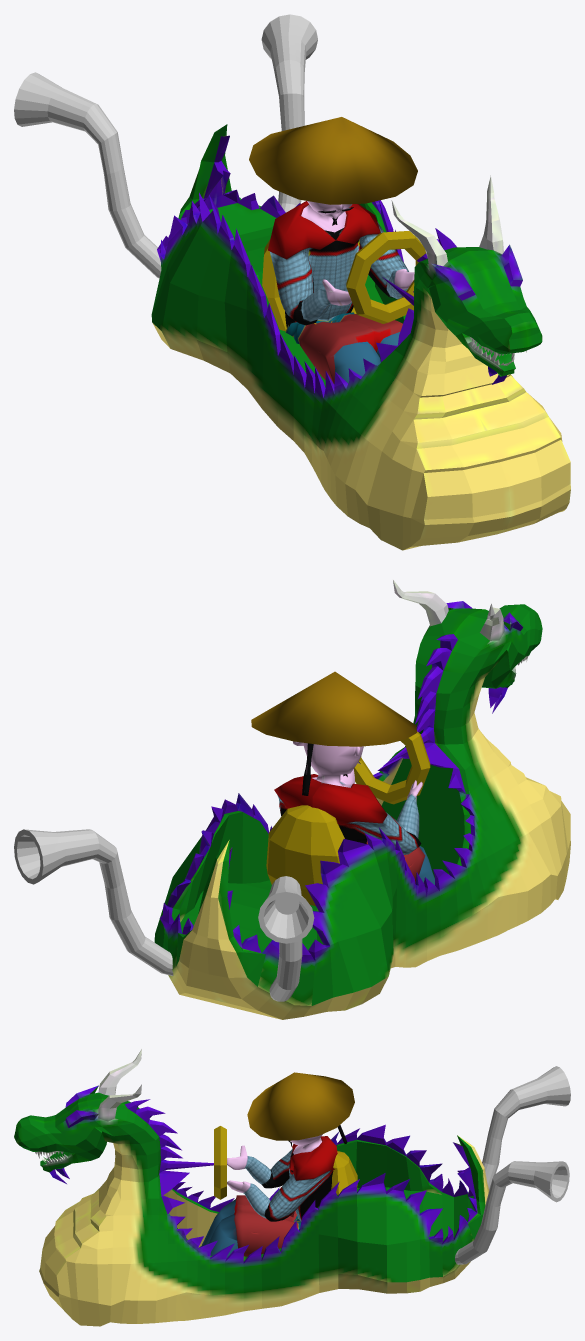
File: ChinoHabilidad_000228.obj
3 renders of one model, top to bottom at view 1: azimuth 30°, elevation 25°; view 2: azimuth 150°, elevation 25°; view 3: azimuth 270°, elevation 25°, orthographic. The views are drawn at different scales.
Visible parts, largest first — view 1: ChasisChino_ChasisChinoH, Chino_ChinoH, Tubos_TubosH, volanteChino_VolanteChinoH, AsientoChinoMalla_AsientoChinoMH; view 2: ChasisChino_ChasisChinoH, Chino_ChinoH, Tubos_TubosH, AsientoChinoMalla_AsientoChinoMH, volanteChino_VolanteChinoH; view 3: ChasisChino_ChasisChinoH, Chino_ChinoH, Tubos_TubosH, volanteChino_VolanteChinoH, AsientoChinoMalla_AsientoChinoMH.
Boxes of the visible parts, x1,y1,x2,y2 form: ChasisChino_ChasisChinoH: (151, 124, 570, 550); Chino_ChinoH: (249, 117, 417, 383); Tubos_TubosH: (14, 14, 317, 278); volanteChino_VolanteChinoH: (346, 231, 425, 323); AsientoChinoMalla_AsientoChinoMH: (262, 239, 356, 331); ChasisChino_ChasisChinoH: (154, 580, 570, 1019); Chino_ChinoH: (251, 671, 434, 884); Tubos_TubosH: (14, 829, 314, 1001); AsientoChinoMalla_AsientoChinoMH: (266, 805, 344, 906); volanteChino_VolanteChinoH: (354, 731, 430, 804); ChasisChino_ChasisChinoH: (14, 1049, 489, 1326); Chino_ChinoH: (199, 1072, 354, 1258); Tubos_TubosH: (455, 1066, 570, 1264); volanteChino_VolanteChinoH: (214, 1126, 226, 1199); AsientoChinoMalla_AsientoChinoMH: (331, 1151, 357, 1194).
Size of the model in its own units: 6.15 by 6.07 by 13.3.
